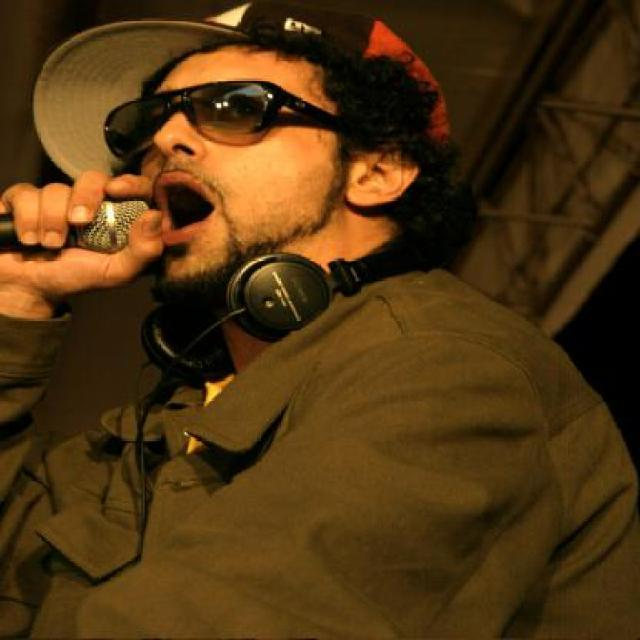earphone: (157, 248, 400, 387)
